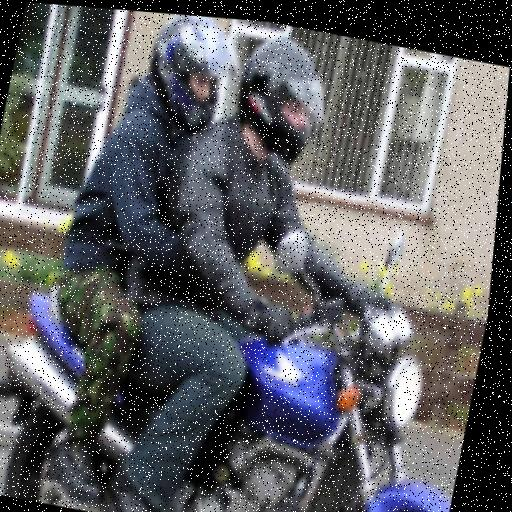Helmet: (228, 27, 336, 168), (138, 10, 239, 134)
Motor: (0, 213, 479, 512)
